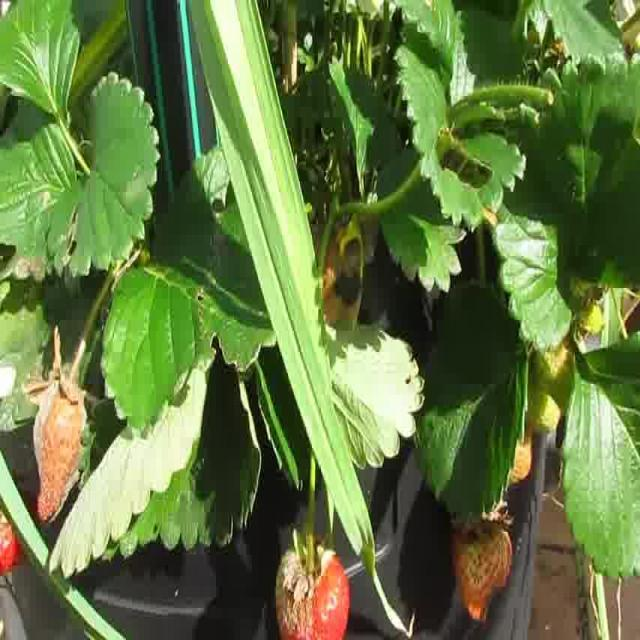Fruta sana: (452, 515, 514, 623), (532, 324, 578, 416), (0, 488, 43, 576), (518, 352, 564, 432), (498, 410, 532, 488), (572, 300, 604, 334)
Moho gris: (31, 377, 91, 522), (276, 546, 350, 640)
